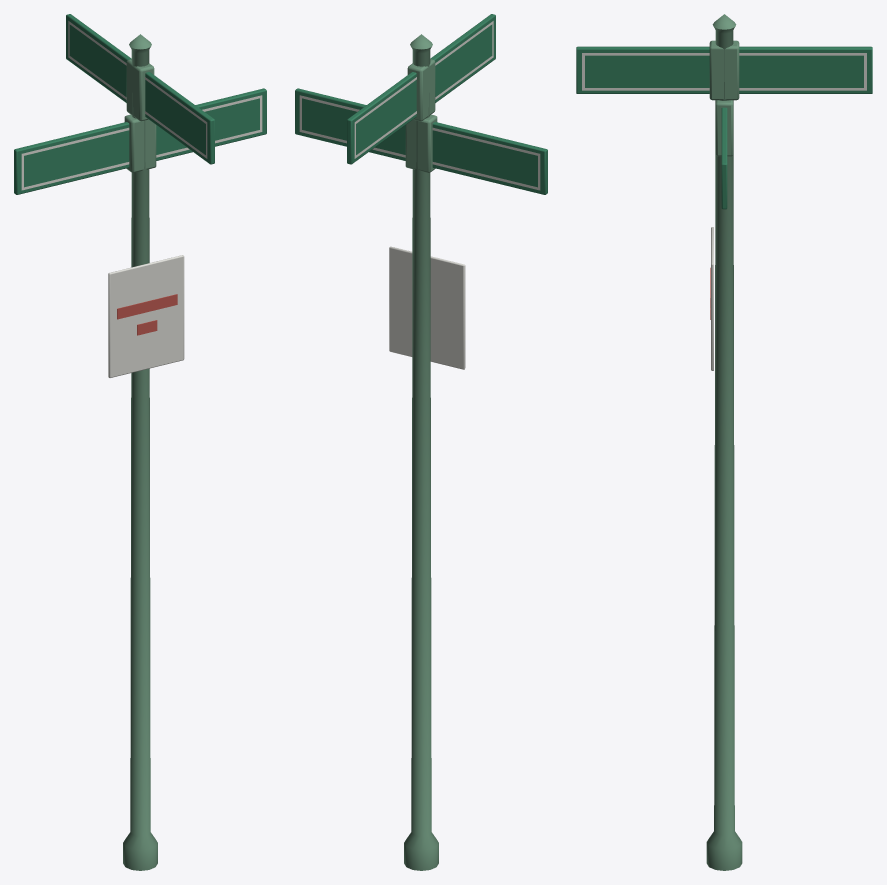
File: street_sign.glb
3 renders of one model, left to right at view 1: azimuth 30°, elevation 25°; view 2: azimuth 150°, elevation 25°; view 3: azimuth 270°, elevation 25°, orthographic. The views are drawn at different scales.
Visible parts, largest first — view 1: street_sign; view 2: street_sign; view 3: street_sign.
Boxes of the visible parts, left/top/right/bottom form: street_sign: left=14, top=14, right=266, bottom=870; street_sign: left=295, top=14, right=547, bottom=870; street_sign: left=576, top=14, right=872, bottom=870.
Size of the model in its own units: 1 by 3.16 by 1.
